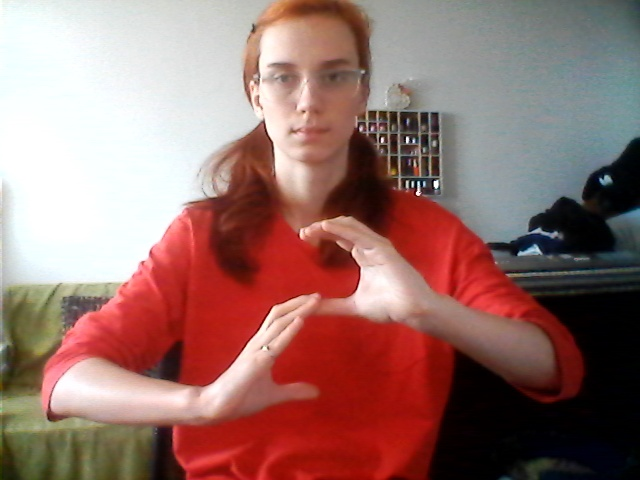s: (224, 210, 419, 426)
